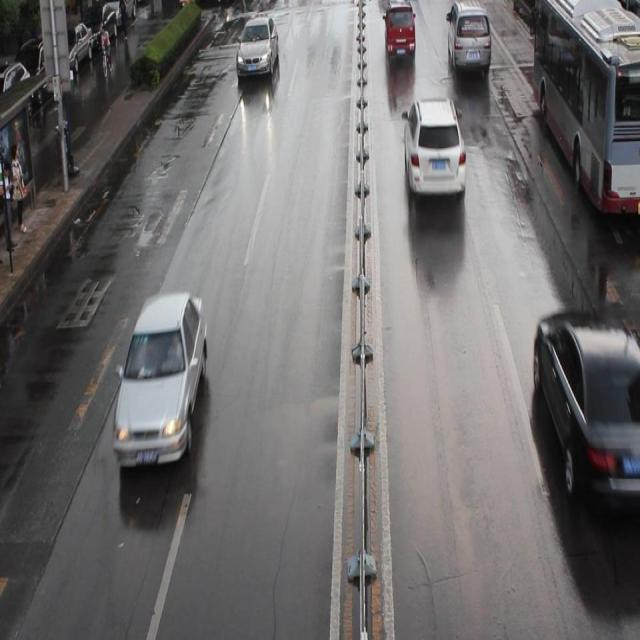car: (530, 309, 640, 519), (113, 291, 208, 466), (402, 98, 465, 197), (235, 14, 279, 76), (384, 1, 416, 57)
truck: (446, 1, 490, 71)
van: (531, 1, 640, 217)
